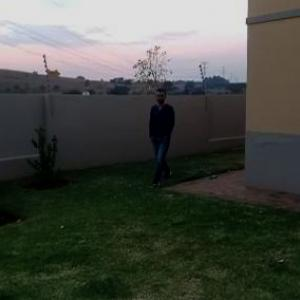follow: (147, 86, 182, 187)
